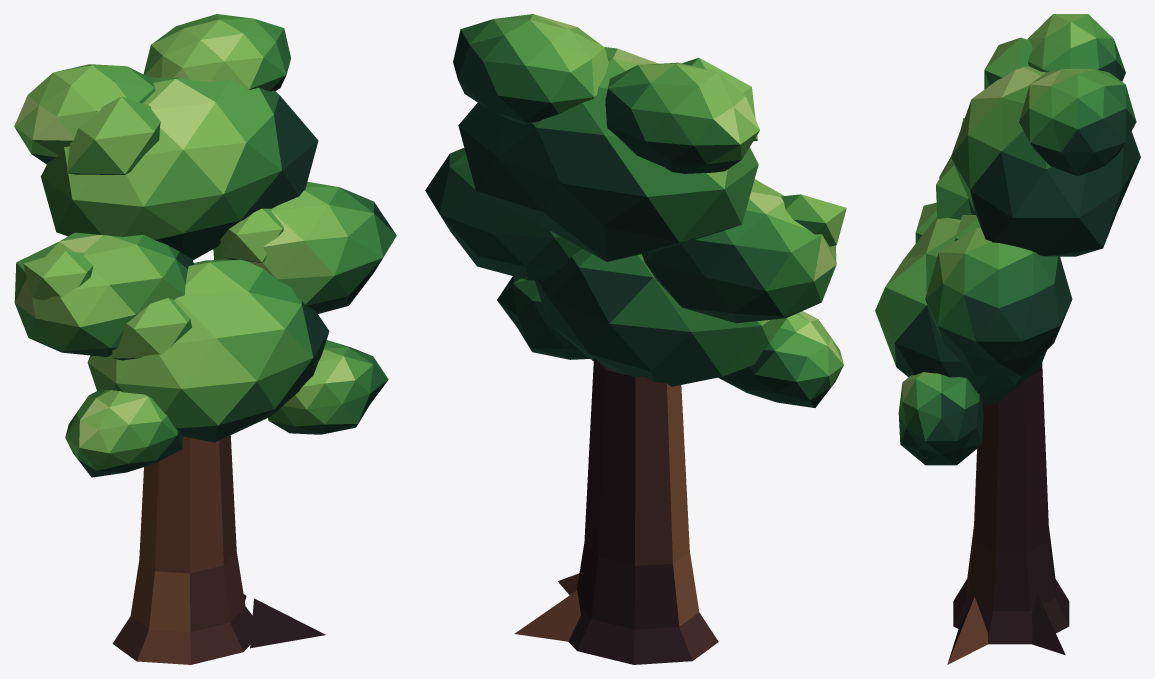
Rendered from tree_tree4.glb.
3 views of the same model, side by side, from view 1: azimuth 30°, elevation 25°; view 2: azimuth 150°, elevation 25°; view 3: azimuth 270°, elevation 25° (orthographic). The views are drawn at different scales.
Visible parts, largest first — view 1: tree4; view 2: tree4; view 3: tree4.
Part boxes in pixels (x1=…): tree4: x1=14, y1=14, x2=396, y2=664; tree4: x1=425, y1=14, x2=846, y2=664; tree4: x1=875, y1=14, x2=1140, y2=664.
Size of the model in its own units: 1.02 by 1.56 by 0.6573.
